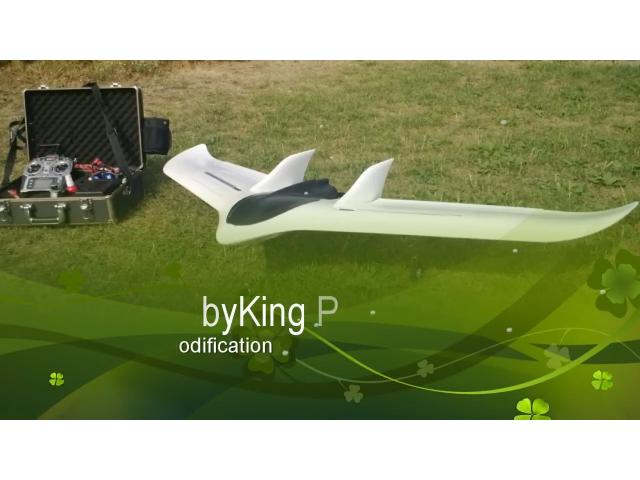Anti-Drone: (156, 124, 640, 282)
